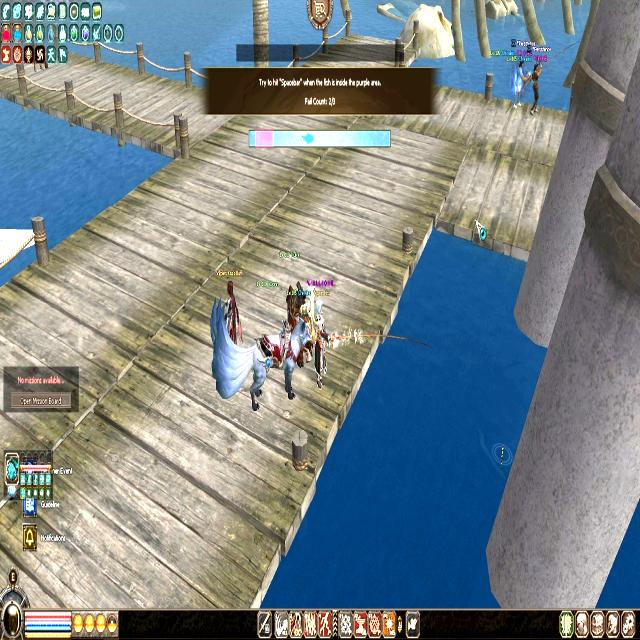box: (255, 130, 273, 146)
fishes: (300, 130, 316, 146)
